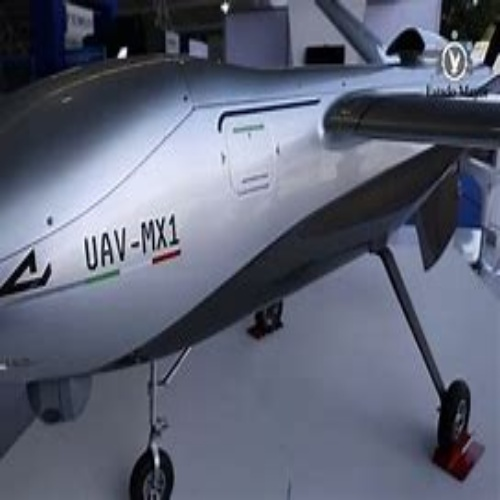uav569: (6, 22, 479, 500)
